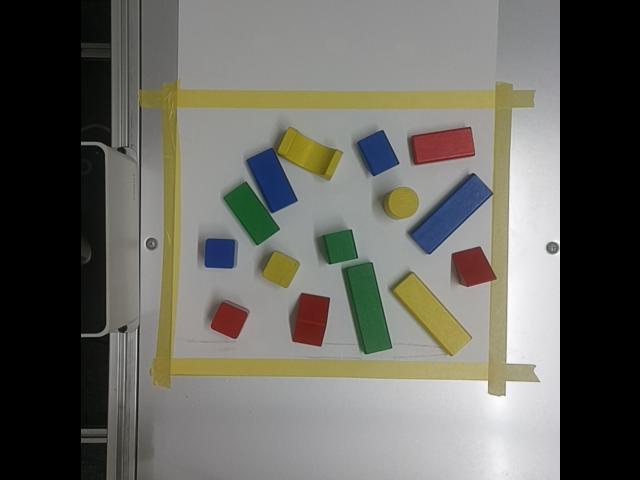blue_cube: (205, 236, 238, 269)
blue_longrect: (411, 175, 493, 255)
blue_rect: (249, 147, 295, 214)
cylinder: (381, 186, 418, 217)
green_cube: (323, 232, 357, 266)
green_longrect: (343, 267, 391, 355)
green_rect: (223, 181, 277, 244)
half_cylinder: (355, 130, 398, 178)
red_cube: (208, 299, 249, 340)
red_rect: (411, 125, 475, 166)
triangle: (292, 292, 329, 350), (449, 244, 494, 287)
yellow_archrect: (275, 126, 342, 181)
yellow_cube: (259, 254, 298, 287)
yellow_longrect: (391, 273, 473, 357)
